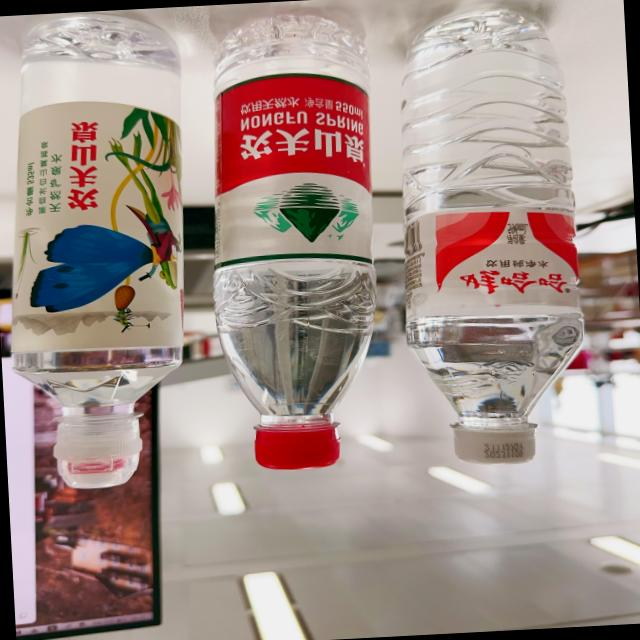bottle: (0, 7, 201, 496), (385, 2, 593, 471), (198, 3, 392, 476)
